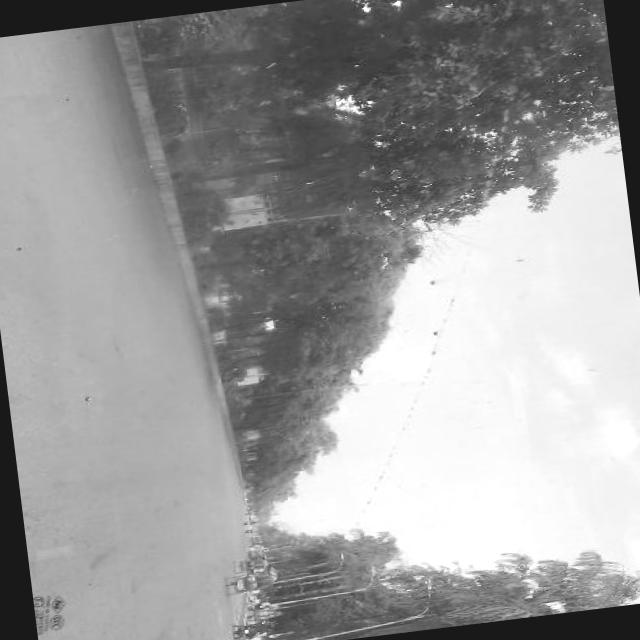motorcycle: (222, 569, 280, 598), (230, 618, 280, 640), (164, 632, 297, 640), (232, 556, 270, 575), (241, 519, 260, 528), (248, 540, 266, 548)
